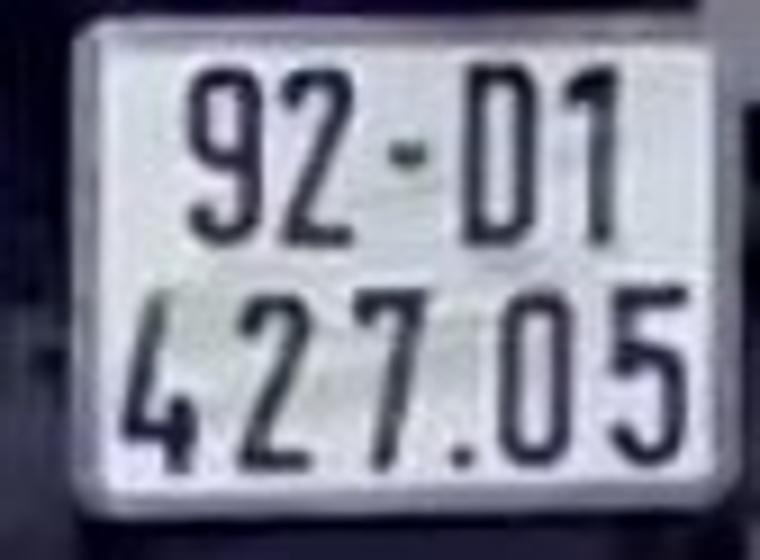-: (383, 138, 432, 182)
.: (446, 435, 487, 479)
0: (494, 286, 579, 477)
1: (557, 56, 633, 251)
2: (276, 56, 364, 257), (231, 289, 321, 485)
4: (114, 288, 206, 483)
5: (607, 279, 695, 476)
7: (343, 280, 431, 477)
9: (179, 60, 272, 255)
D: (457, 56, 542, 248)
